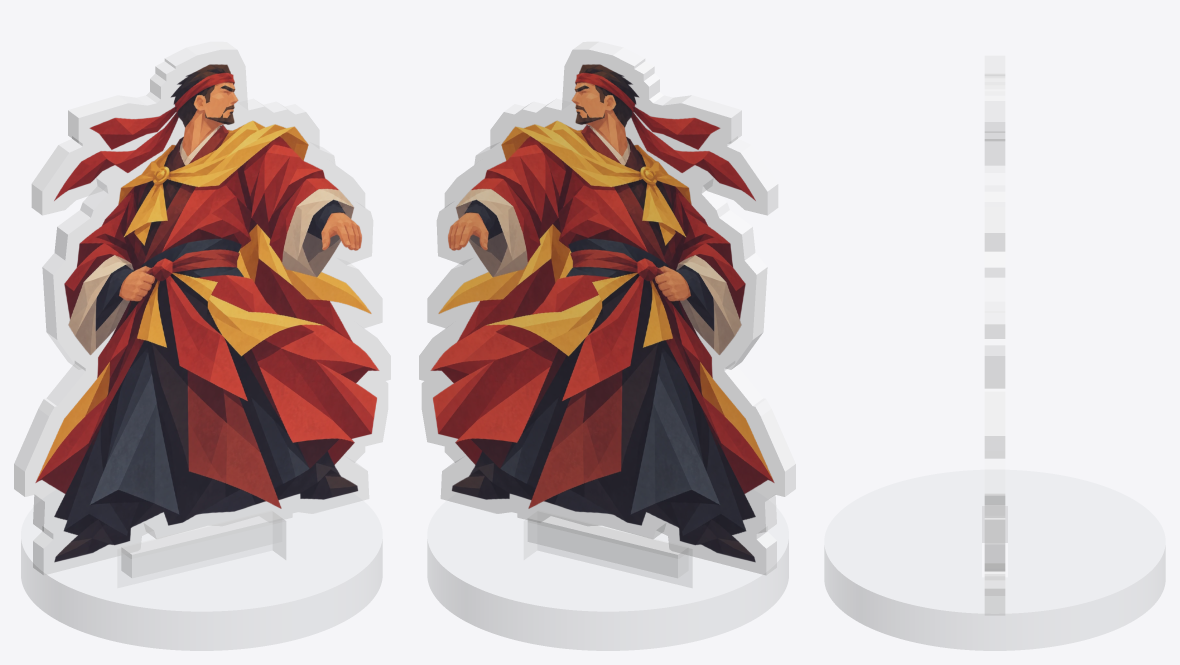
File: nha-tuong-DxHxYcM8.glb
3 views of the same model, side by side, from view 1: azimuth 30°, elevation 25°; view 2: azimuth 150°, elevation 25°; view 3: azimuth 270°, elevation 25° (orthographic). The views are drawn at different scales.
Parts seen in each view (by area): view 1: ArtworkFront, RoundBaseWithSlot, AcrylicSilhouette, InsertTab; view 2: ArtworkBack, RoundBaseWithSlot, AcrylicSilhouette, InsertTab; view 3: RoundBaseWithSlot, AcrylicSilhouette, InsertTab.
Part boxes in pixels (x1=…): ArtworkFront: x1=35, y1=64, x2=379, y2=562; RoundBaseWithSlot: x1=21, y1=490, x2=382, y2=650; AcrylicSilhouette: x1=14, y1=42, x2=390, y2=574; InsertTab: x1=121, y1=510, x2=281, y2=577; ArtworkBack: x1=430, y1=64, x2=774, y2=562; RoundBaseWithSlot: x1=427, y1=490, x2=788, y2=650; AcrylicSilhouette: x1=419, y1=42, x2=795, y2=574; InsertTab: x1=528, y1=510, x2=688, y2=577; RoundBaseWithSlot: x1=824, y1=470, x2=1165, y2=650; AcrylicSilhouette: x1=984, y1=56, x2=1005, y2=615; InsertTab: x1=985, y1=505, x2=1004, y2=595.
Size of the model in its own units: 29.19 by 40.06 by 25.
Materials: 5 (2 with a texture image).
